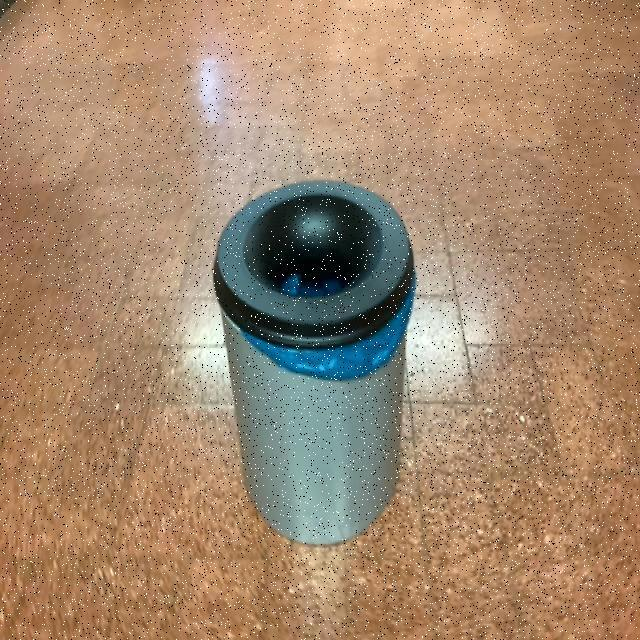garbage container: (180, 149, 456, 561)
